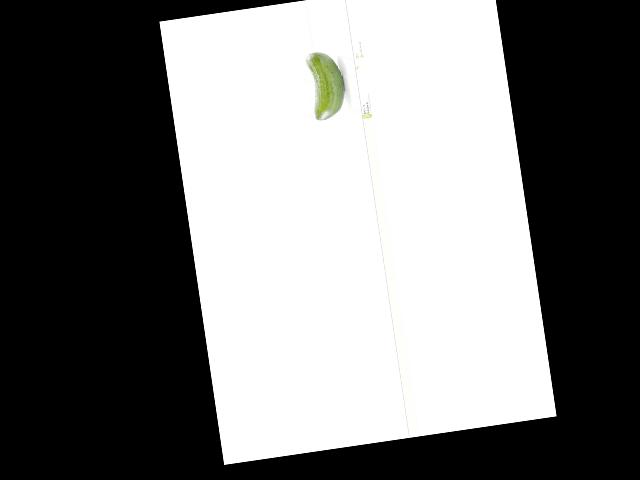cucumber: (305, 48, 348, 120)
